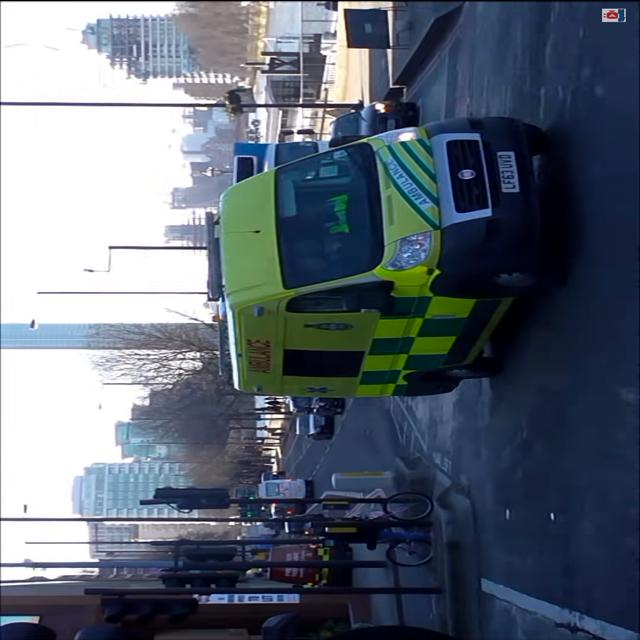emergency-vehicles: (188, 76, 580, 428)
